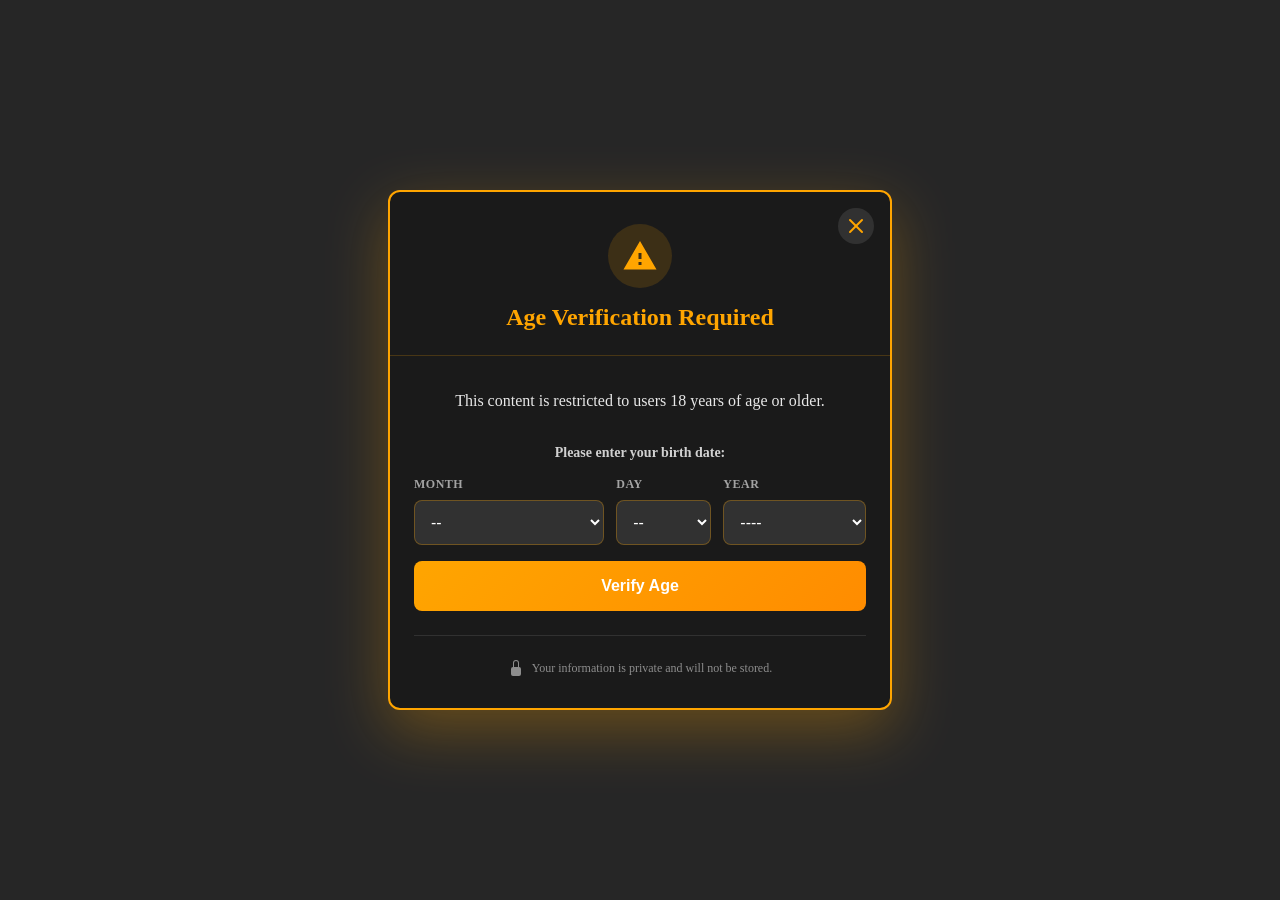
AgeGateComponent › validation › requires a complete birth date
Select "May" in the dropdown with id "birth-month" at point(509, 523), box [414,500,604,545]
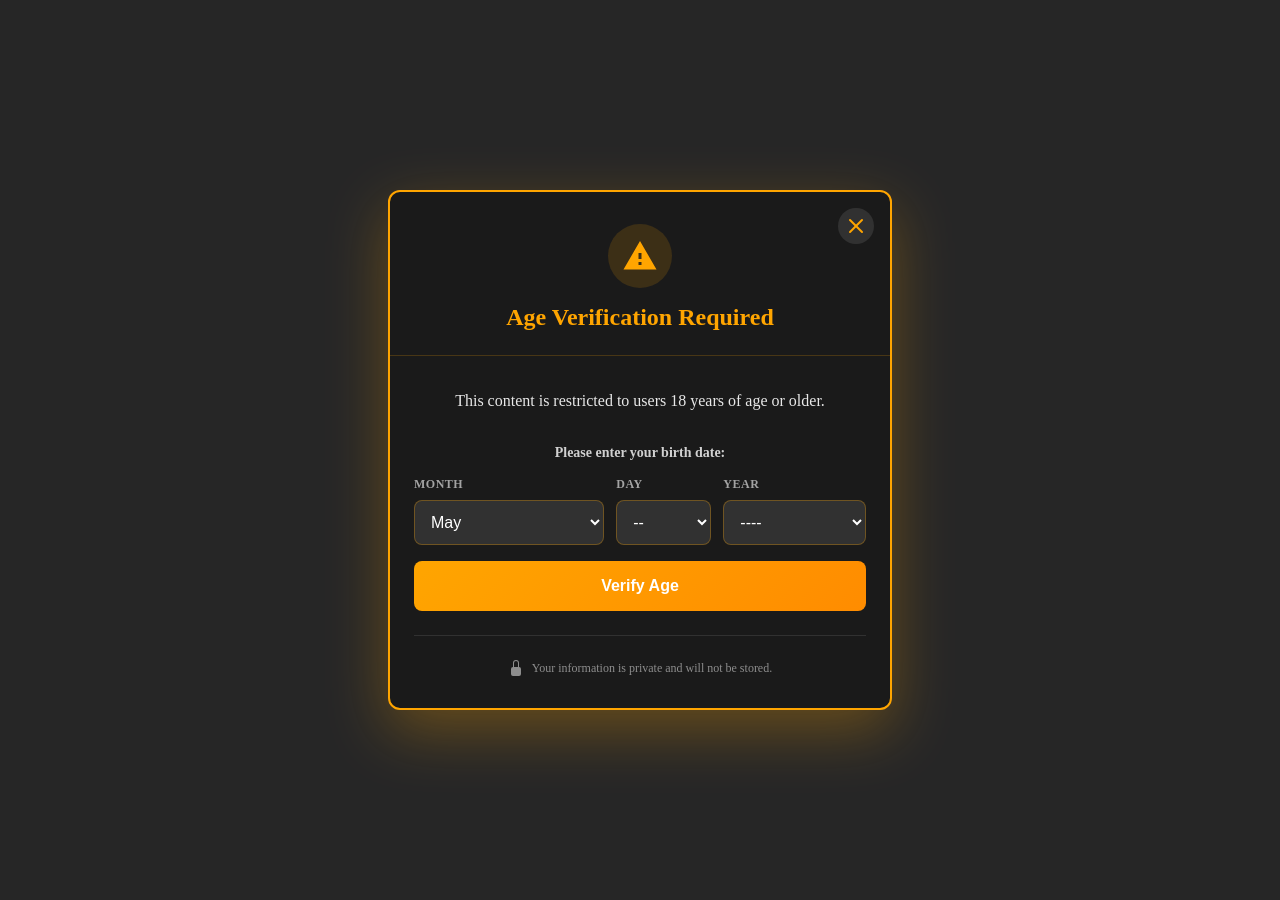
Select "--" in the dropdown with id "birth-day" at point(664, 523), box [616,500,711,545]
Select "1990" in the dropdown with id "birth-year" at point(795, 523), box [723,500,866,545]
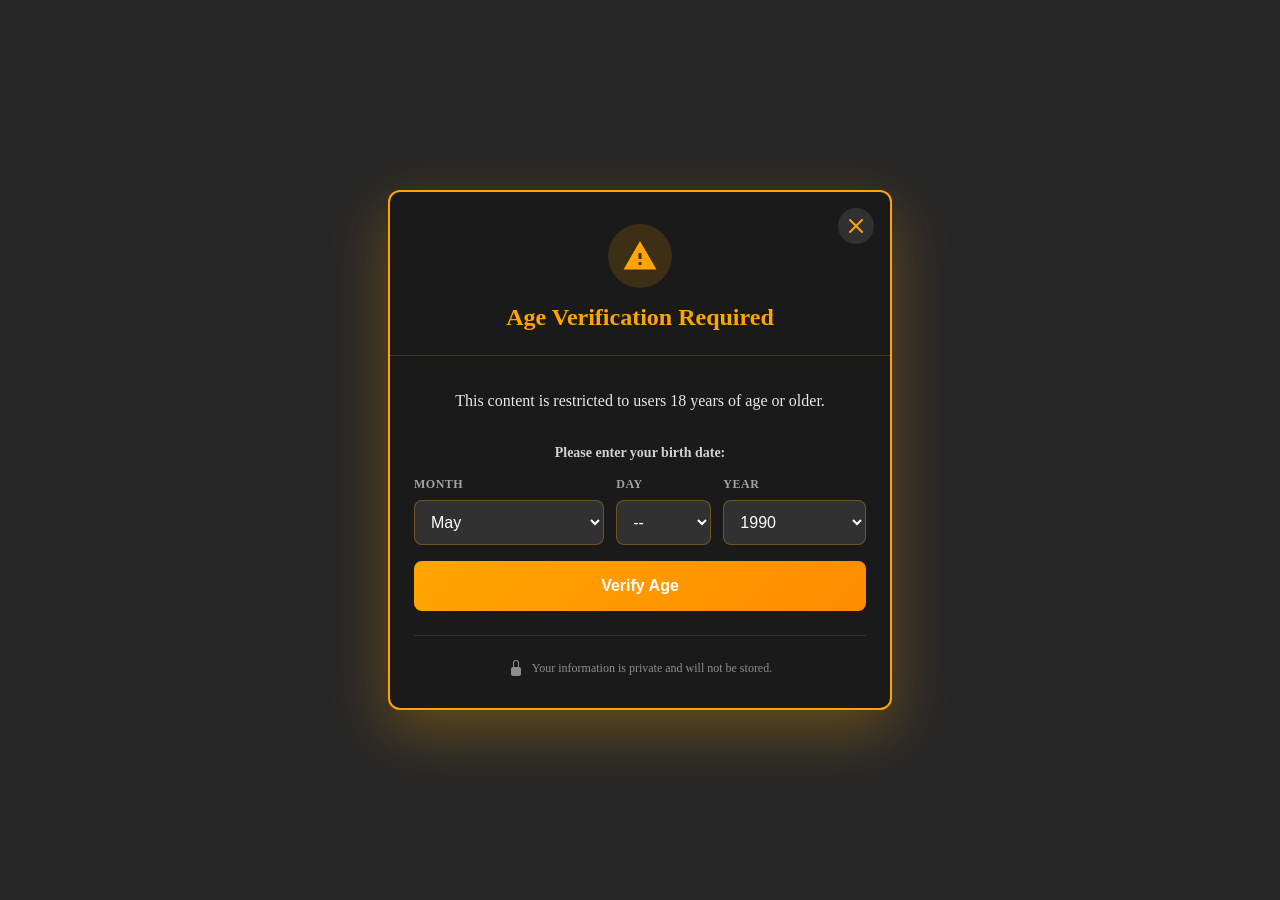
Click the button "Verify Age" at point(640, 586), box [414,561,866,611]
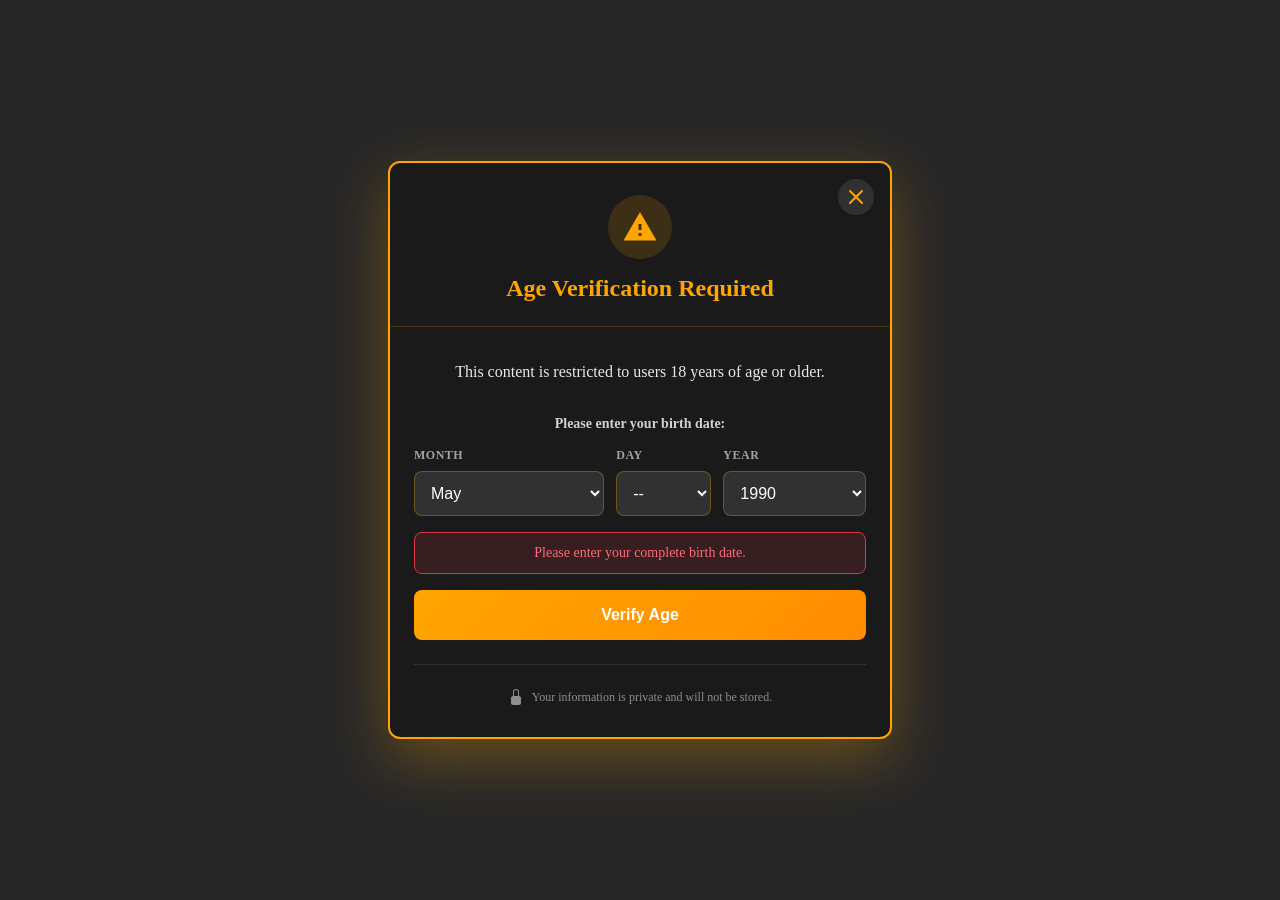
Now the message with class "error-message" reads "Please enter your complete birth date.", box [534,545,746,560]
